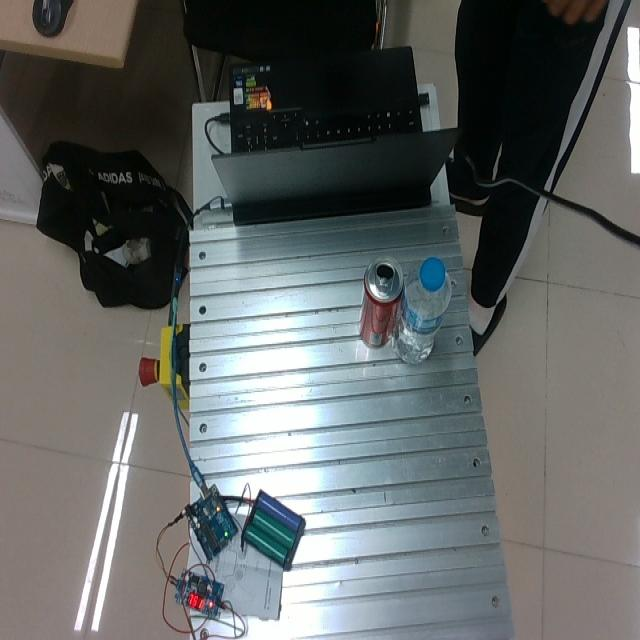coca: (358, 256, 403, 349)
lavie: (392, 257, 452, 364)
